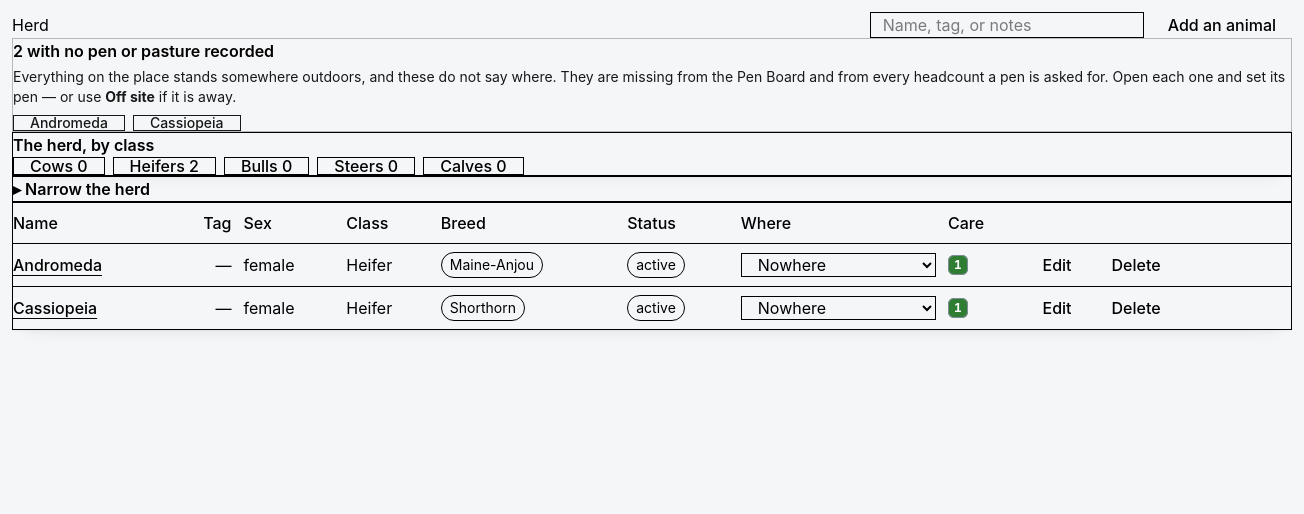
Test: the breed filter › narrows the herd to one breed rather than throwing
Click the button "▸ Narrow the herd": (82, 189) [13,177,150,201]
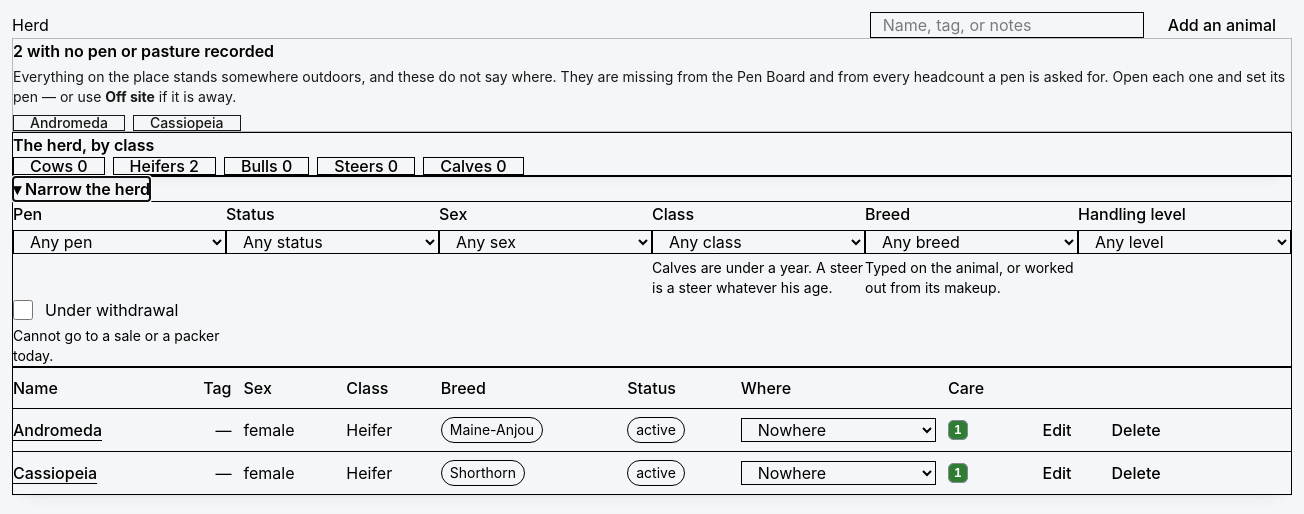
Select "Maine-Anjou" in the dropdown labelled "Breed": (972, 242) [865,230,1078,254]
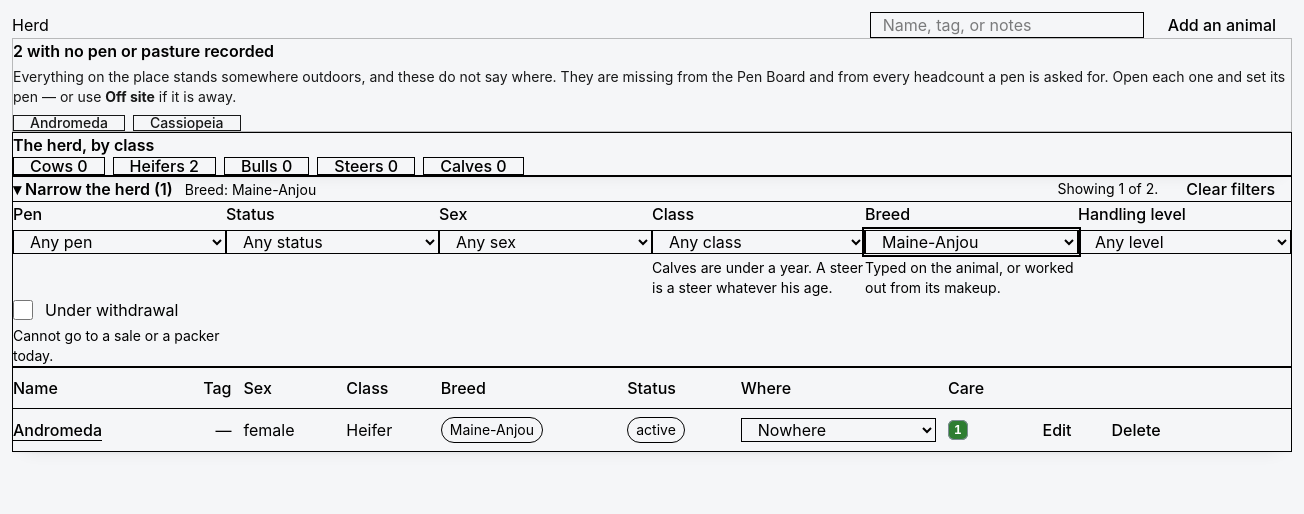
Check: the text "Showing 1 of 2." is shown, box [1057,179,1158,199]
